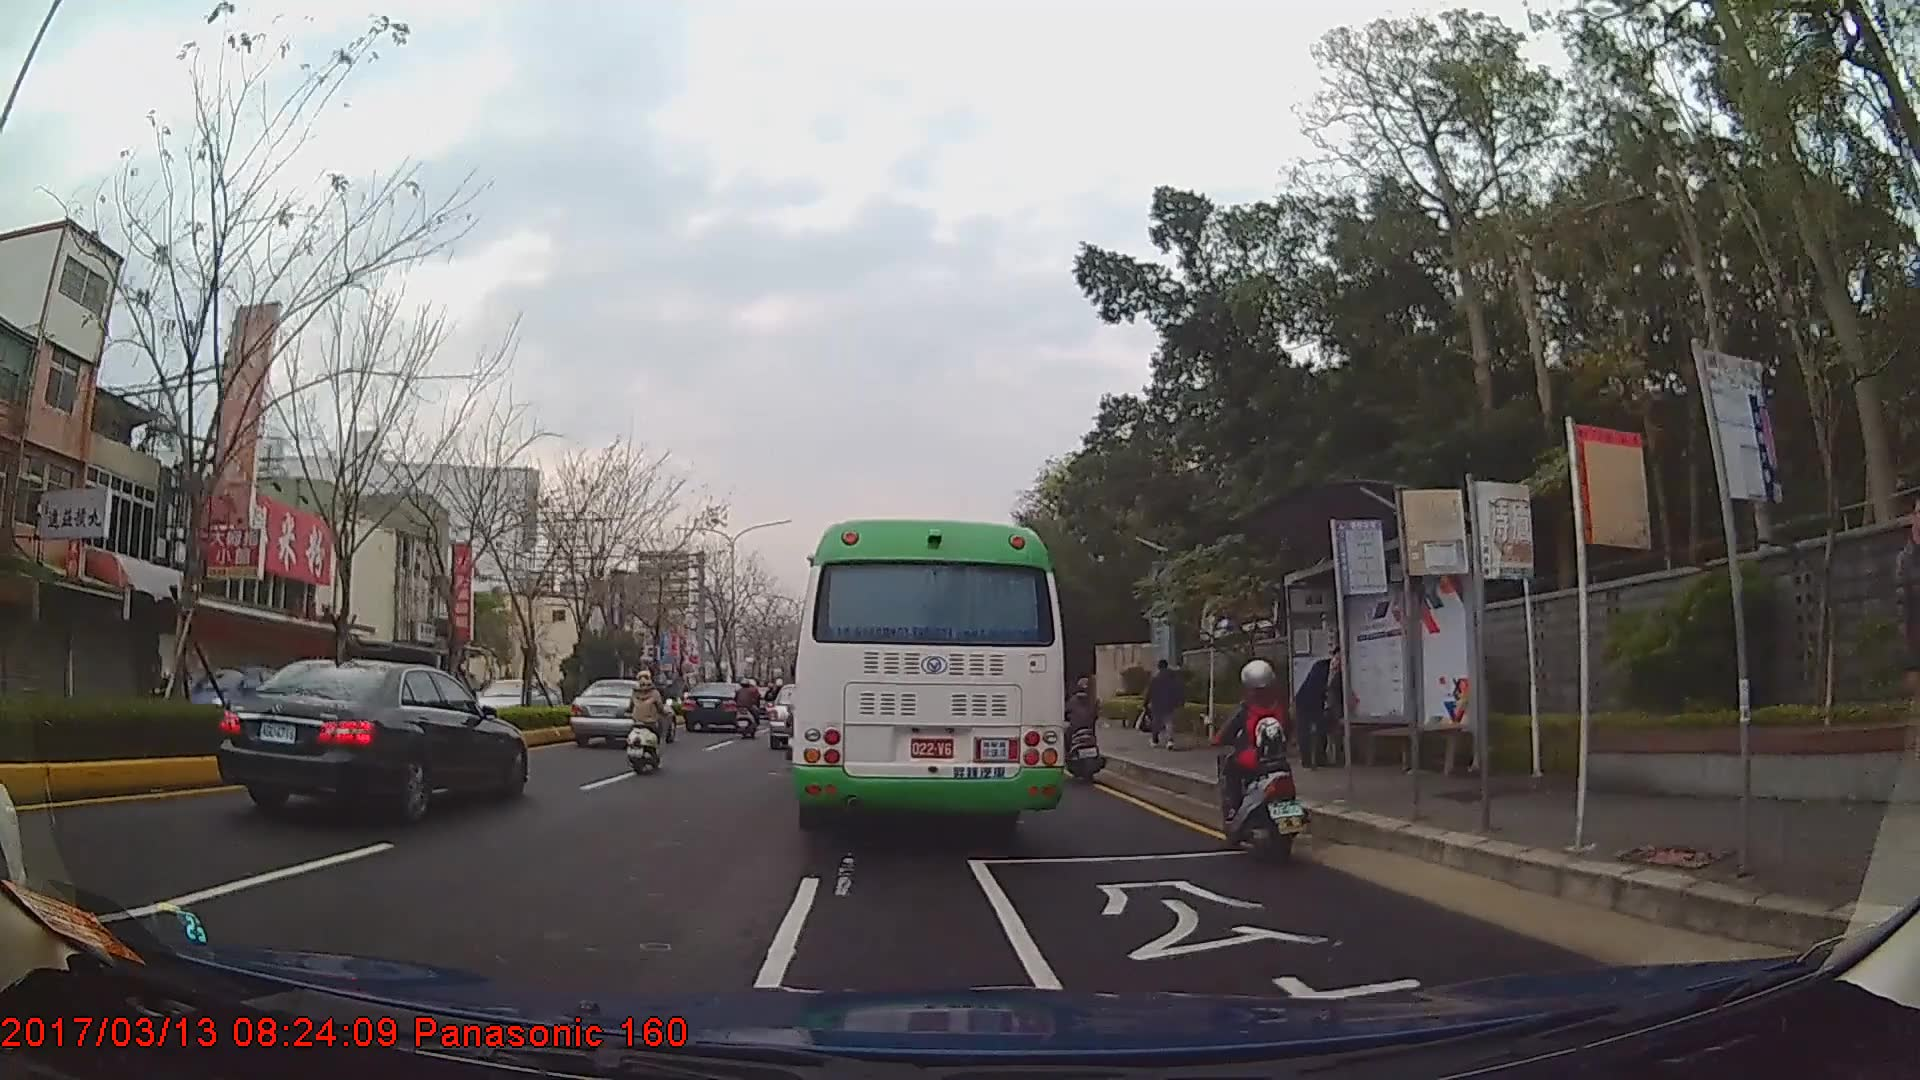pedestrian: (1296, 642, 1353, 773), (1139, 656, 1184, 750)
rider: (1209, 661, 1312, 862), (1060, 674, 1108, 785), (627, 669, 673, 774), (735, 677, 760, 738), (150, 668, 176, 699)
vehicle: (791, 516, 1065, 837), (208, 659, 525, 822), (570, 677, 677, 748), (462, 672, 557, 729), (682, 677, 749, 731)
